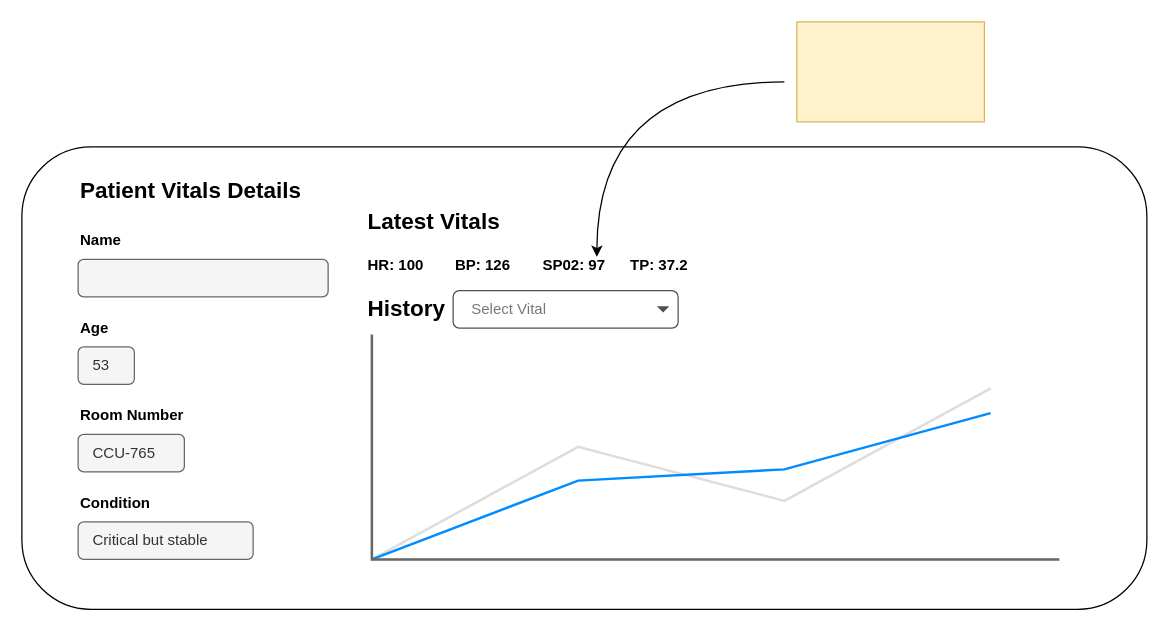
The diagram is 1169 pixels wide and 631 high, and some of its shapes have lost their labels. The centre of each missing label's shape, as x and y in pixels:
"display all values in - blue if low - green if normal - red if high" belongs at (890,71).
"Ms. Della Mertz" belongs at (202,277).
